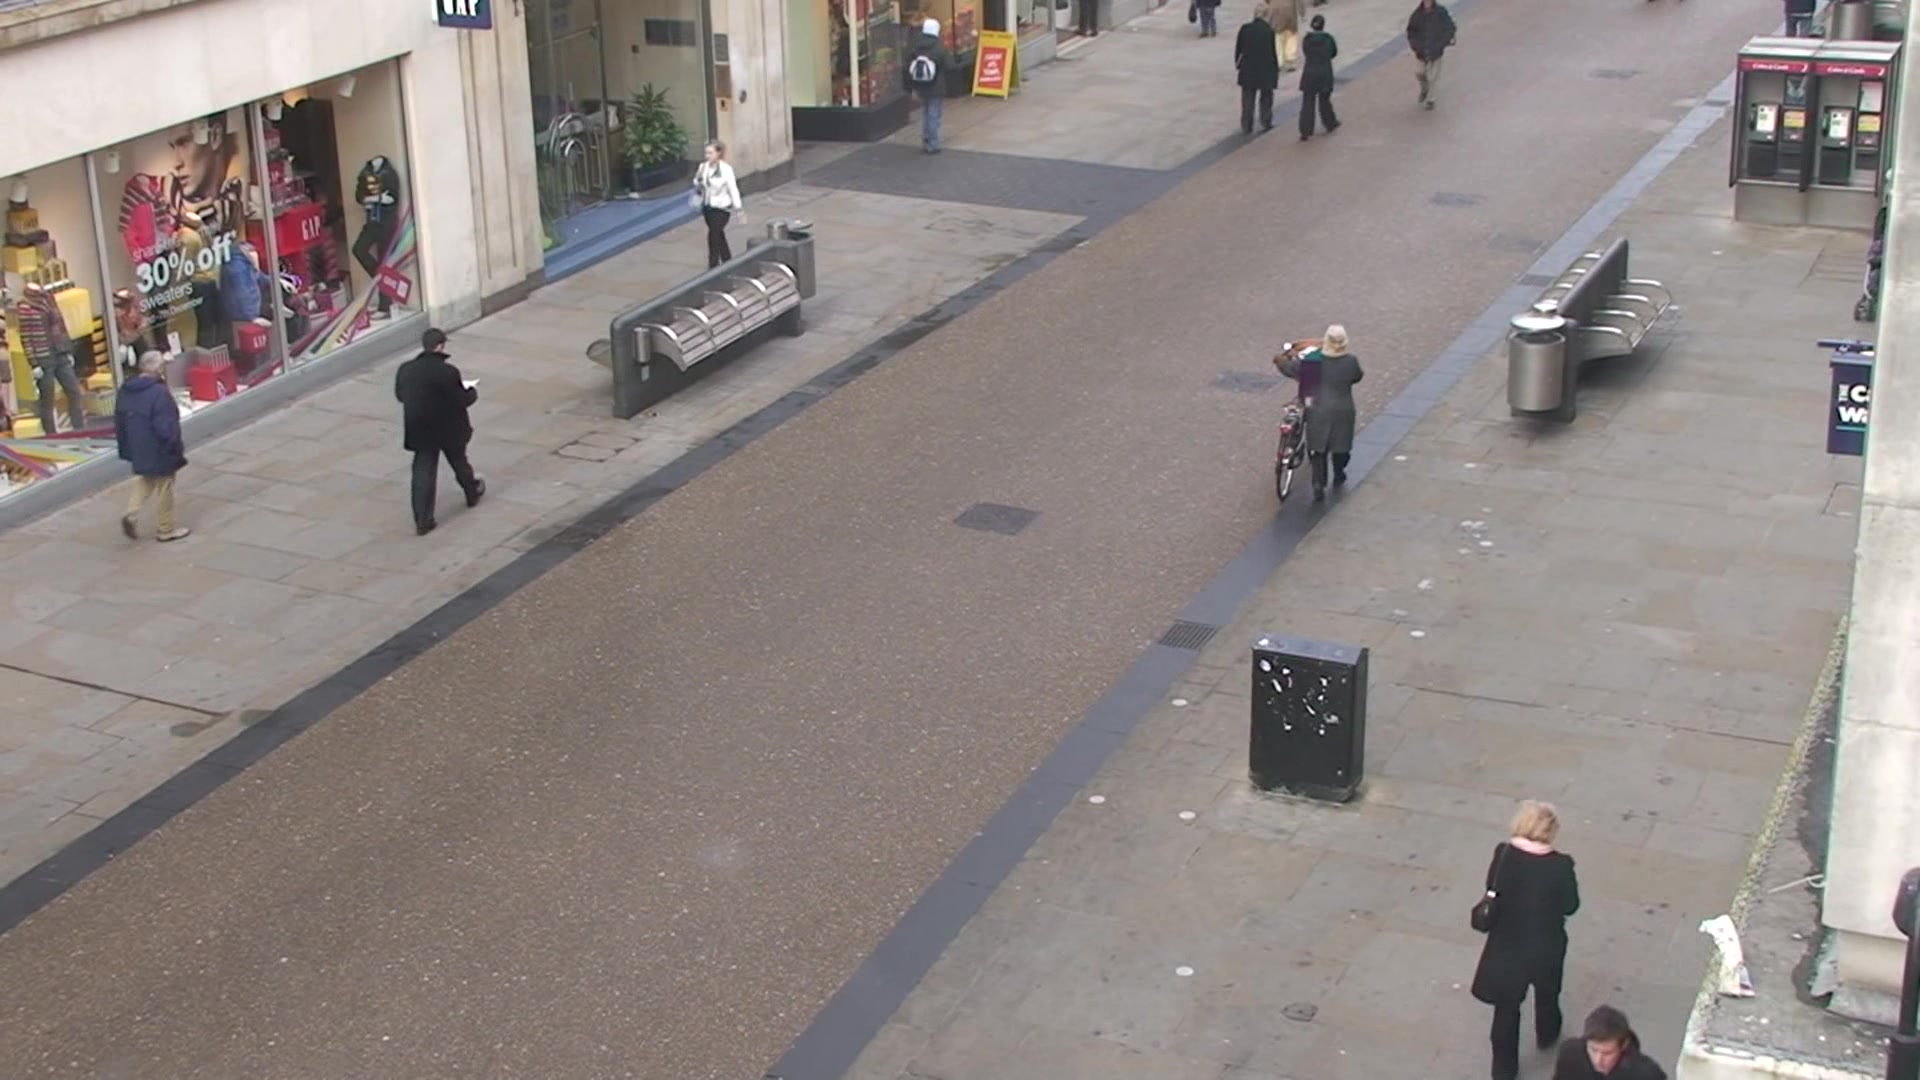person: (1470, 801, 1579, 1080), (393, 329, 487, 538), (1273, 324, 1363, 502), (111, 351, 192, 545), (688, 142, 748, 274), (902, 17, 954, 152), (1232, 4, 1279, 134), (1297, 15, 1343, 139)
